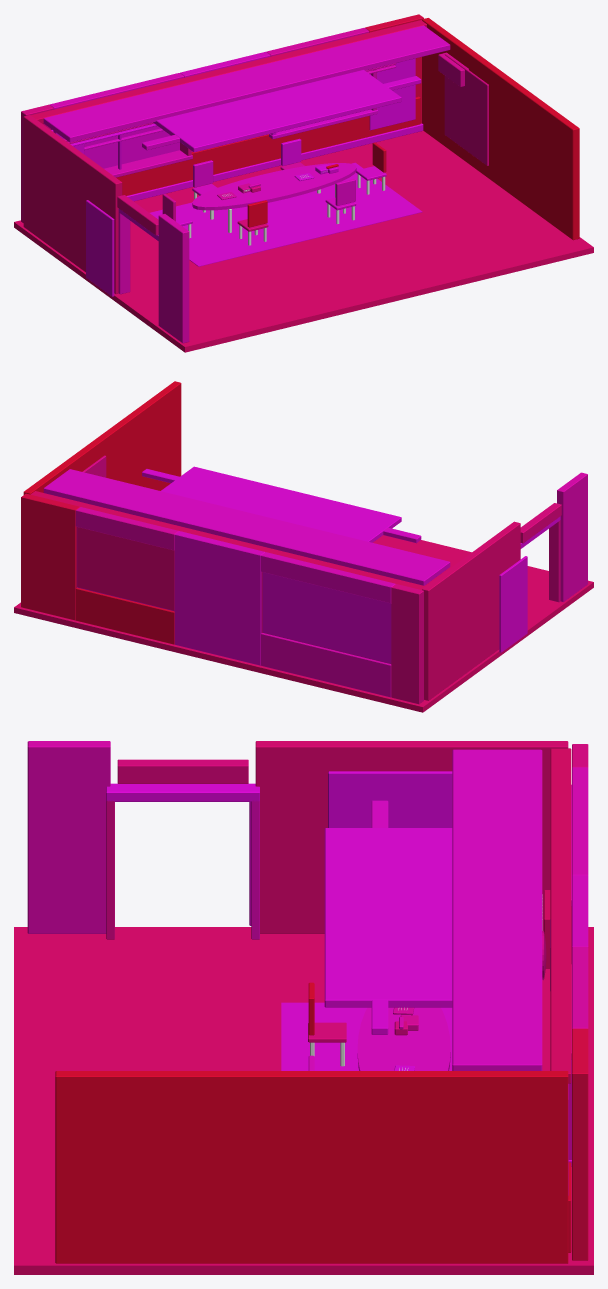
File: court_chapter_14.glb
3 renders of one model, top to bottom at view 1: azimuth 30°, elevation 25°; view 2: azimuth 150°, elevation 25°; view 3: azimuth 270°, elevation 25°, orthographic. The views are drawn at different scales.
Parts seen in each view (by area): view 1: Floor, WallRight, CeilingRibbon, WallLeftRear, ConferenceCarpet, MeetingCeilingRaft, Wainscot, WallLeftFront, CouncilTable, AcousticSide_1, CorniceRear, OpenDoorLeaf (+20 smaller); view 2: CeilingRibbon, WallBackPier_1, WallLeftRear, Glazing_0, WallRight, Floor, MeetingCeilingRaft, WallBackPier_end, Glazing_1, WallBackLow_0, WallBackPier_0, WallBackLow_1 (+7 smaller); view 3: WallRight, Floor, CeilingRibbon, MeetingCeilingRaft, WallLeftRear, WallLeftFront, CorniceRear, AcousticSide_-1, CouncilTable, ConferenceCarpet, WallBackPier_end, DoorLintel (+7 smaller).
Part boxes in pixels (x1,y1,x2,y2): Floor: (14,131,593,352); WallRight: (422,18,579,240); CeilingRibbon: (43,25,450,142); WallLeftRear: (23,115,122,294); ConferenceCarpet: (150,162,422,266); MeetingCeilingRaft: (153,70,401,152); Wainscot: (116,96,420,195); WallLeftFront: (158,214,189,343); CouncilTable: (192,163,356,232); AcousticSide_1: (444,53,488,165); CorniceRear: (31,20,426,123); OpenDoorLeaf: (86,200,114,296); CeilingRibbon: (43,469,450,585); WallBackPier_1: (174,531,264,665); WallLeftRear: (422,521,520,700); Glazing_0: (262,572,391,663); WallRight: (23,381,181,494); Floor: (14,535,593,712); MeetingCeilingRaft: (161,466,401,542); WallBackPier_end: (21,493,79,620); Glazing_1: (77,527,174,610); WallBackLow_0: (261,633,391,697); WallBackPier_0: (391,584,423,704); WallBackLow_1: (75,587,174,644); WallRight: (55,1071,568,1263); Floor: (14,927,593,1274); CeilingRibbon: (452,749,542,1070); MeetingCeilingRaft: (324,828,452,1007); WallLeftRear: (255,741,568,933); WallLeftFront: (27,741,110,933); CorniceRear: (550,748,571,1083); AcousticSide_-1: (328,771,452,827); CouncilTable: (357,1007,450,1070); ConferenceCarpet: (281,1002,452,1070); WallBackPier_end: (572,1028,588,1260); DoorLintel: (117,759,248,783).
Size of the model in its own units: 11.7 by 3.18 by 8.4.
